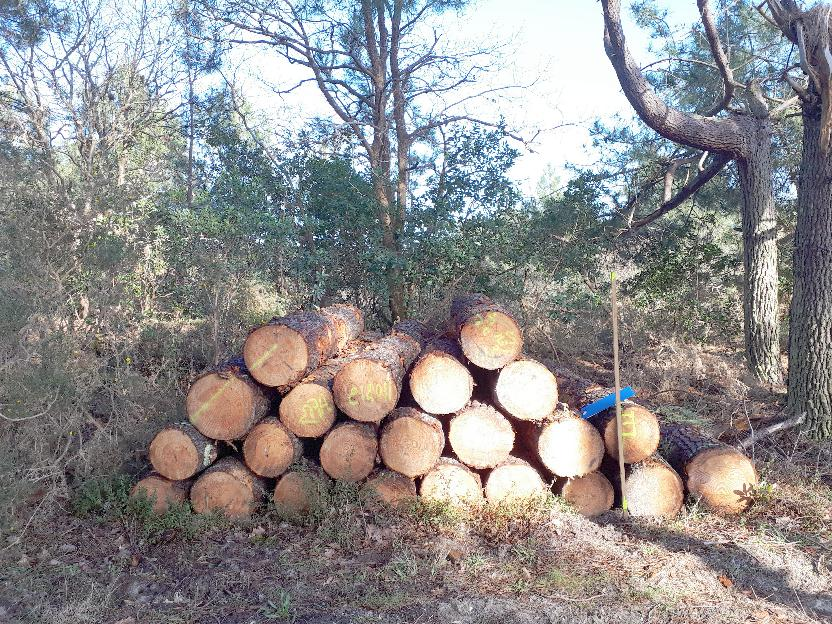etalon: (608, 270, 630, 518)
object: (688, 444, 758, 514), (188, 371, 254, 441), (333, 359, 399, 422), (244, 322, 306, 386), (451, 406, 514, 468), (378, 416, 442, 476), (540, 418, 604, 478), (497, 360, 557, 422), (412, 356, 472, 414), (462, 310, 522, 367), (605, 404, 661, 463), (625, 464, 683, 520), (320, 424, 378, 479), (190, 471, 254, 519), (424, 463, 482, 515), (280, 383, 335, 437), (488, 465, 546, 513), (247, 425, 295, 477), (150, 427, 198, 479), (562, 473, 614, 517), (273, 469, 317, 515), (131, 477, 181, 514), (371, 473, 417, 507)
pile: (126, 297, 766, 525)
